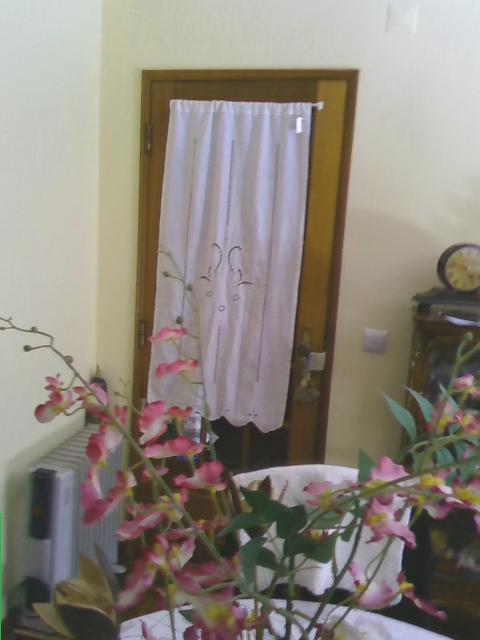closed_door: (128, 66, 360, 625)
